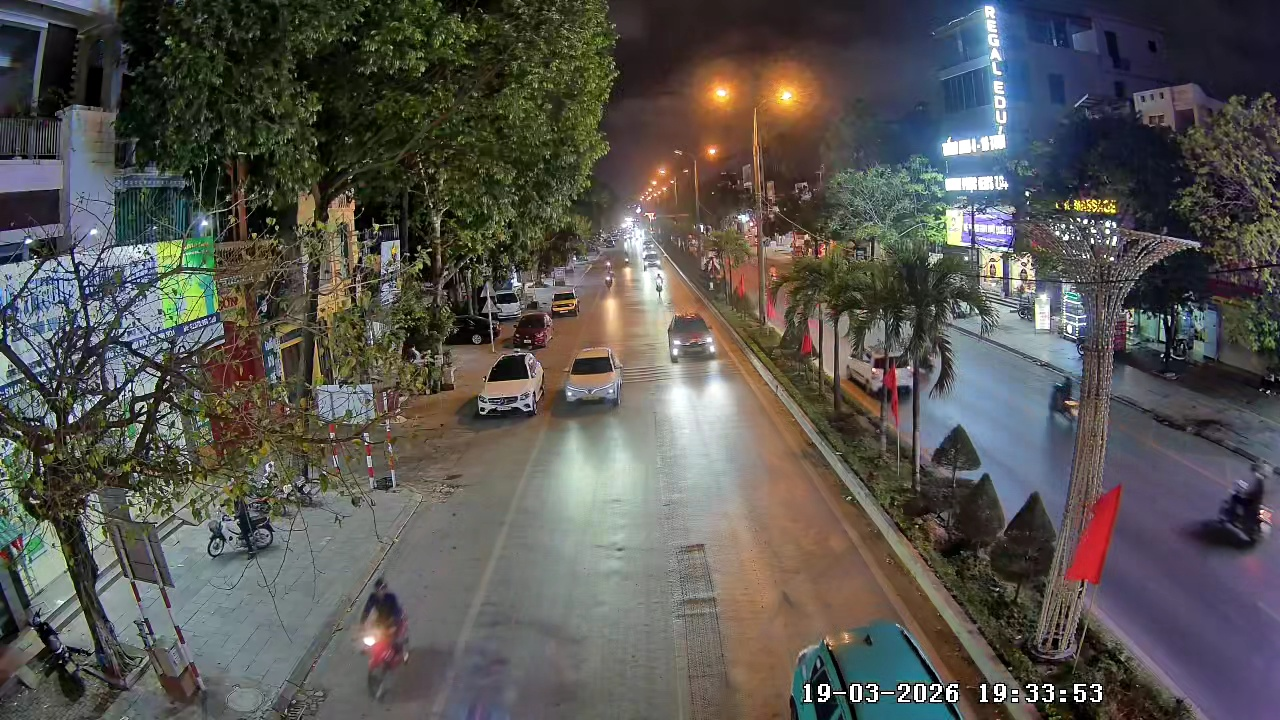car: (787, 619, 964, 719), (475, 349, 547, 416), (561, 345, 624, 410), (668, 311, 718, 359), (513, 310, 551, 348), (552, 283, 580, 317)
motorbike: (359, 575, 413, 701), (1045, 371, 1081, 436), (653, 273, 668, 302), (602, 271, 617, 298)
